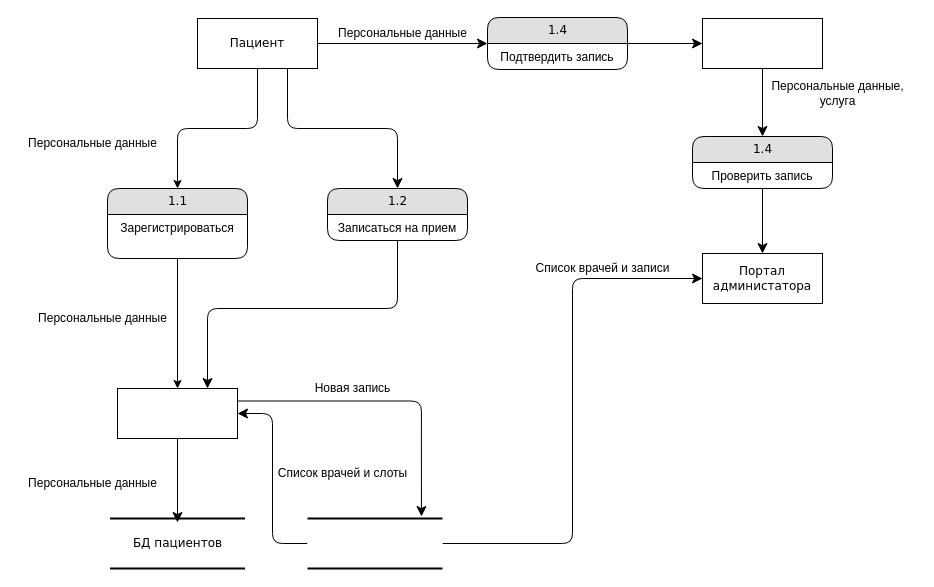
Image size: 934x587. Some labels were removed from this diagram. Each missing label, with the centre of its shape:
"Администратор" goes at (762,43).
"БД расписаний" goes at (374,543).
"Сайт пациентов" goes at (177,413).
